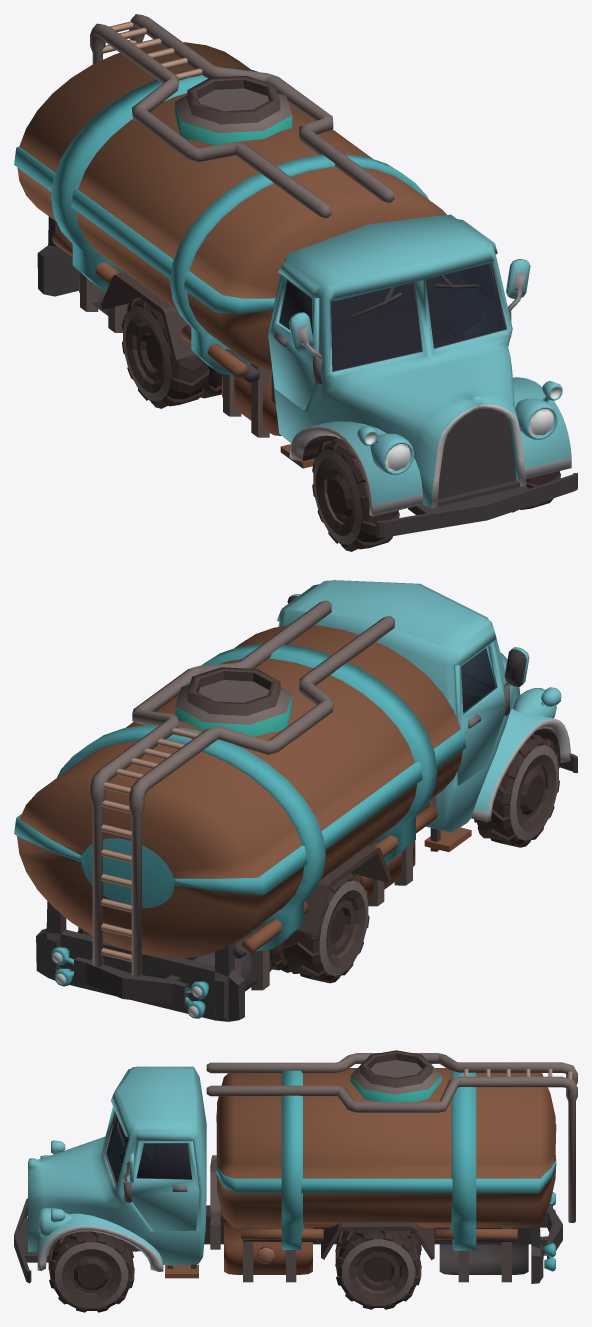
File: Camion4.fbx
3 renders of one model, top to bottom at view 1: azimuth 30°, elevation 25°; view 2: azimuth 150°, elevation 25°; view 3: azimuth 270°, elevation 25°, orthographic. The views are drawn at different scales.
Visible parts, largest first — view 1: Truck_Tanker.001, Truck_body.002, Truck_Engine.002, Truck_Wheel_Back.002, Truck_Wheel_Front.right.002, Truck_Door.right.002, TruckModule_OilTank.002, Truck_WheelCover.002, Truck_Bumper.002, TruckModule_Laggage.002; view 2: Truck_Tanker.001, Truck_body.002, Truck_Bumper.002, Truck_Wheel_Back.002, Truck_Wheel_Front.right.002, Truck_Door.right.002, Truck_WheelCover.002, TruckModule_Laggage.002, TruckModule_OilTank.002; view 3: Truck_Tanker.001, Truck_body.002, Truck_Wheel_Back.002, Truck_Wheel_Front.left.002, Truck_Door.left.002, TruckModule_OilTank.002, TruckModule_Laggage.002, Truck_Chassy_Short.002, Truck_Bumper.002, Truck_WheelCover.002, Truck_Engine.002.
Boxes of the visible parts, x1=… form: Truck_Tanker.001: x1=14, y1=14, x2=446, y2=383; Truck_body.002: x1=272, y1=214, x2=571, y2=516; Truck_Engine.002: x1=376, y1=408, x2=577, y2=537; Truck_Wheel_Back.002: x1=122, y1=297, x2=221, y2=408; Truck_Wheel_Front.right.002: x1=312, y1=438, x2=399, y2=551; Truck_Door.right.002: x1=268, y1=274, x2=318, y2=409; TruckModule_OilTank.002: x1=222, y1=363, x2=281, y2=437; Truck_WheelCover.002: x1=101, y1=272, x2=196, y2=360; Truck_Bumper.002: x1=37, y1=216, x2=78, y2=296; TruckModule_Laggage.002: x1=79, y1=271, x2=129, y2=332; Truck_Tanker.001: x1=14, y1=600, x2=466, y2=976; Truck_body.002: x1=277, y1=580, x2=570, y2=851; Truck_Bumper.002: x1=36, y1=901, x2=244, y2=1021; Truck_Wheel_Back.002: x1=272, y1=873, x2=369, y2=983; Truck_Wheel_Front.right.002: x1=474, y1=733, x2=559, y2=847; Truck_Door.right.002: x1=455, y1=642, x2=505, y2=785; Truck_WheelCover.002: x1=297, y1=845, x2=391, y2=935; TruckModule_Laggage.002: x1=77, y1=927, x2=272, y2=991; TruckModule_OilTank.002: x1=351, y1=840, x2=415, y2=906; Truck_Tanker.001: x1=206, y1=1050, x2=577, y2=1250; Truck_body.002: x1=28, y1=1066, x2=206, y2=1278; Truck_Wheel_Back.002: x1=335, y1=1231, x2=421, y2=1309; Truck_Wheel_Front.left.002: x1=48, y1=1231, x2=134, y2=1312; Truck_Door.left.002: x1=129, y1=1141, x2=199, y2=1231; TruckModule_OilTank.002: x1=224, y1=1222, x2=312, y2=1282; TruckModule_Laggage.002: x1=439, y1=1226, x2=528, y2=1282; Truck_Chassy_Short.002: x1=204, y1=1155, x2=531, y2=1249; Truck_Bumper.002: x1=531, y1=1192, x2=562, y2=1283; Truck_WheelCover.002: x1=321, y1=1222, x2=434, y2=1260; Truck_Engine.002: x1=14, y1=1198, x2=140, y2=1283.
Size of the model in its own units: 551 by 570 by 1373.
Materials: 4 (2 with a texture image).
